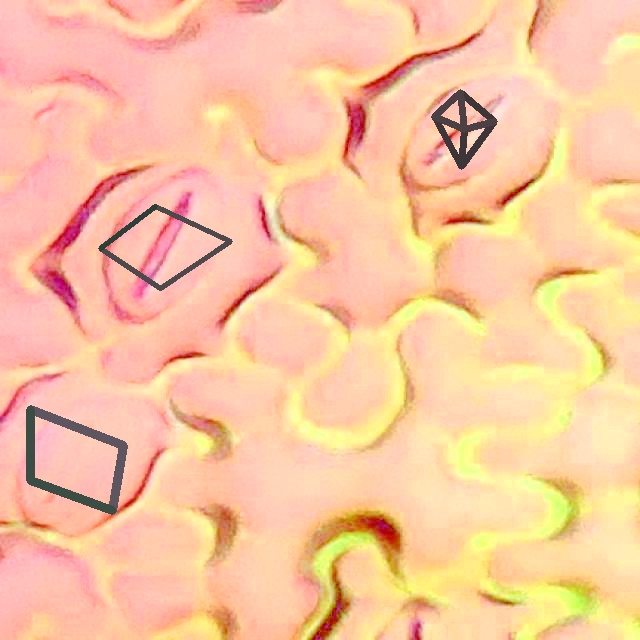close: (26, 405, 127, 514)
open: (99, 205, 232, 289), (432, 90, 497, 168)
